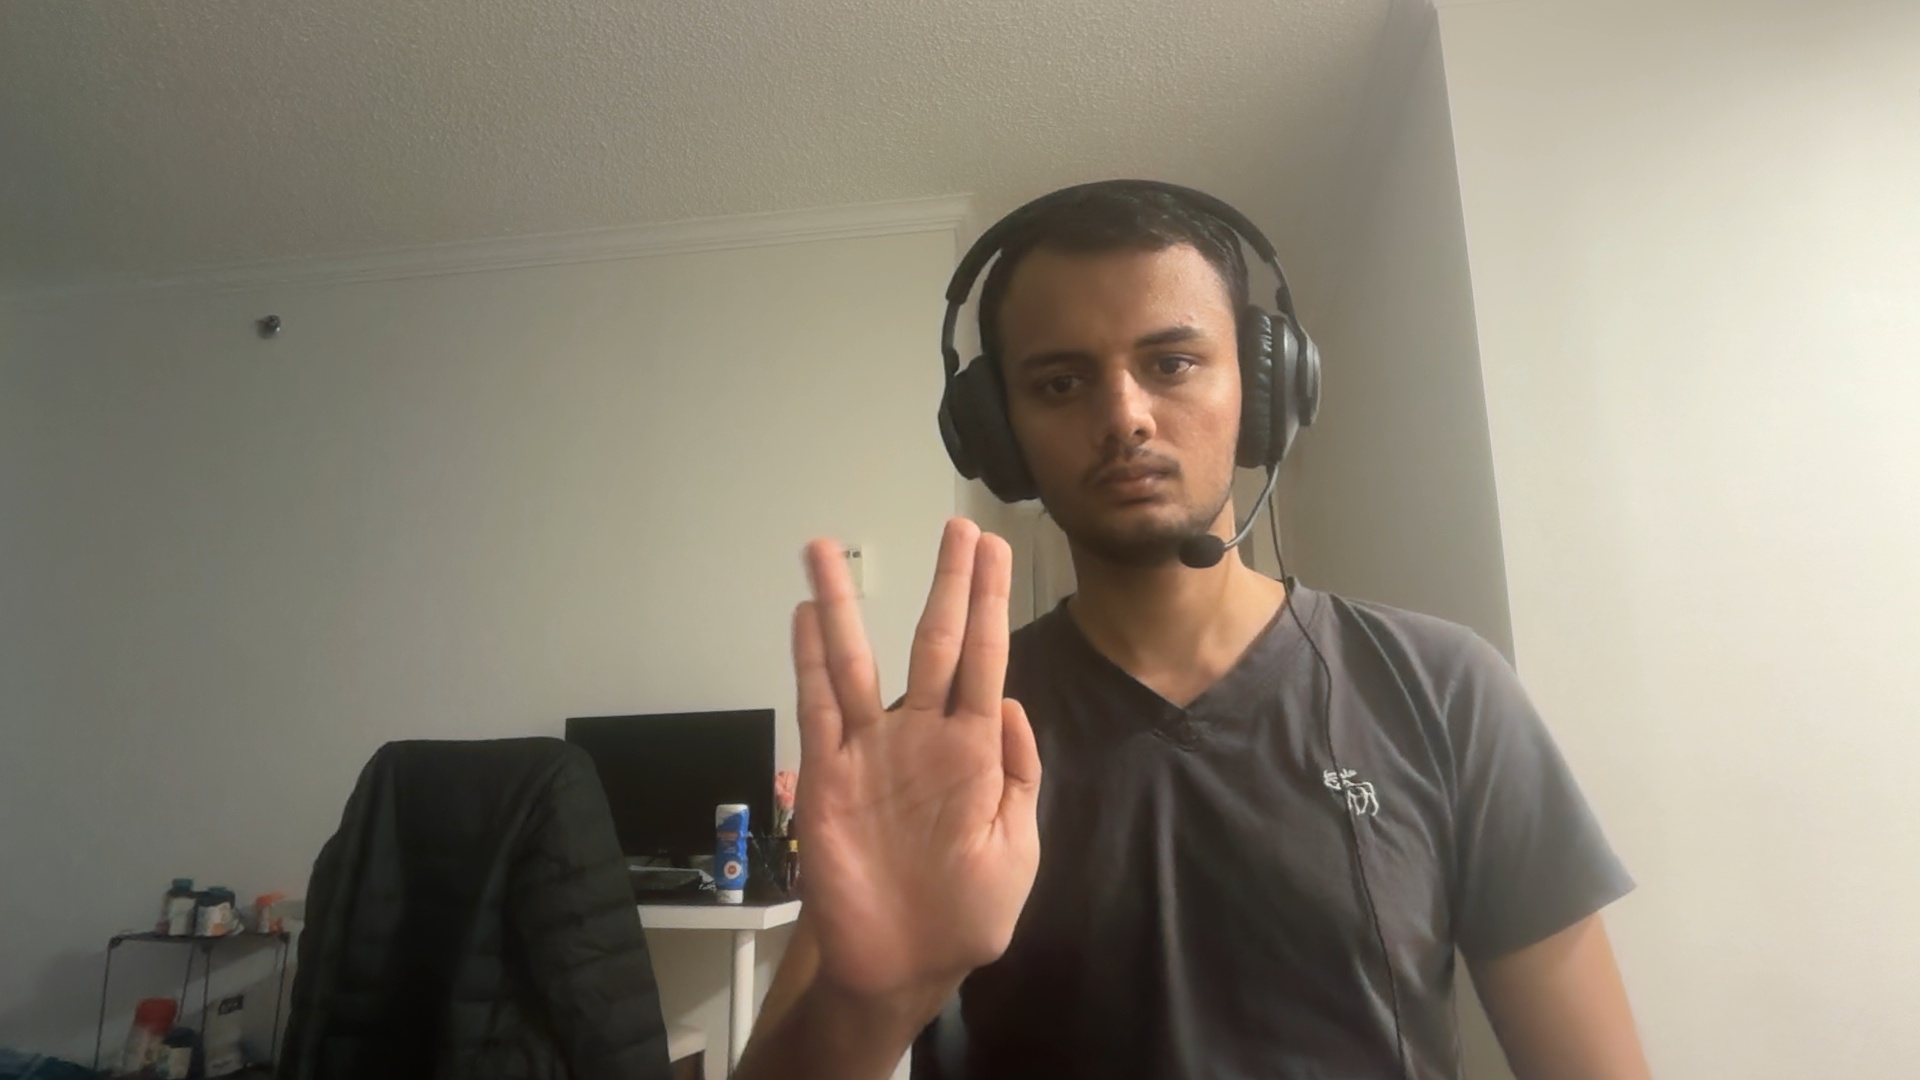livelong: (793, 516, 1040, 992)
